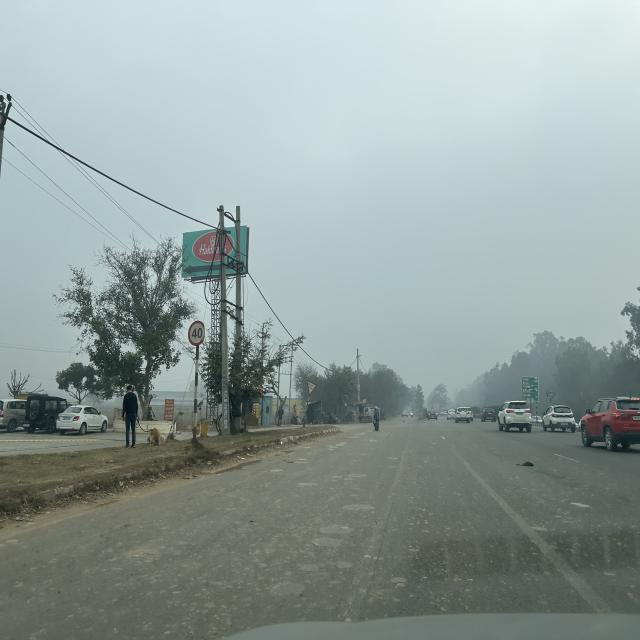GENERAL: (521, 377, 539, 402), (547, 391, 555, 398)
GIVE_WAY: (306, 379, 317, 396)
SPEED_LIMIT_40: (188, 320, 205, 346)
